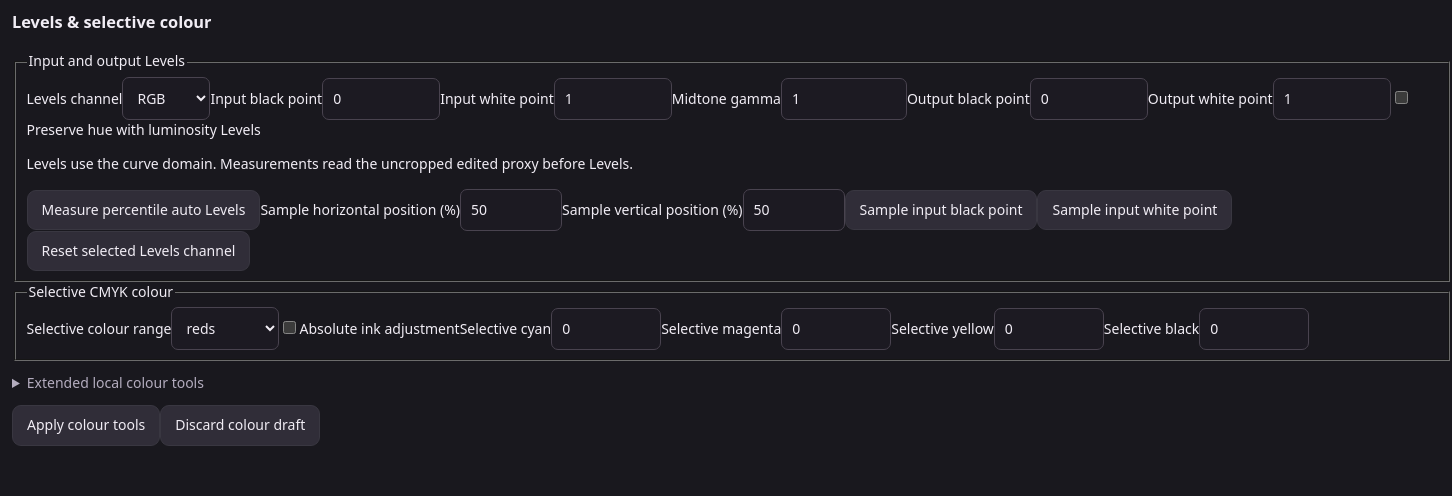
Test: proposes measured points without losing unrelated selective drafts or writing a recipe
Replace the text in the number field labelled "Selective yellow" with "25" at (1049, 329), box [994,308,1104,350]
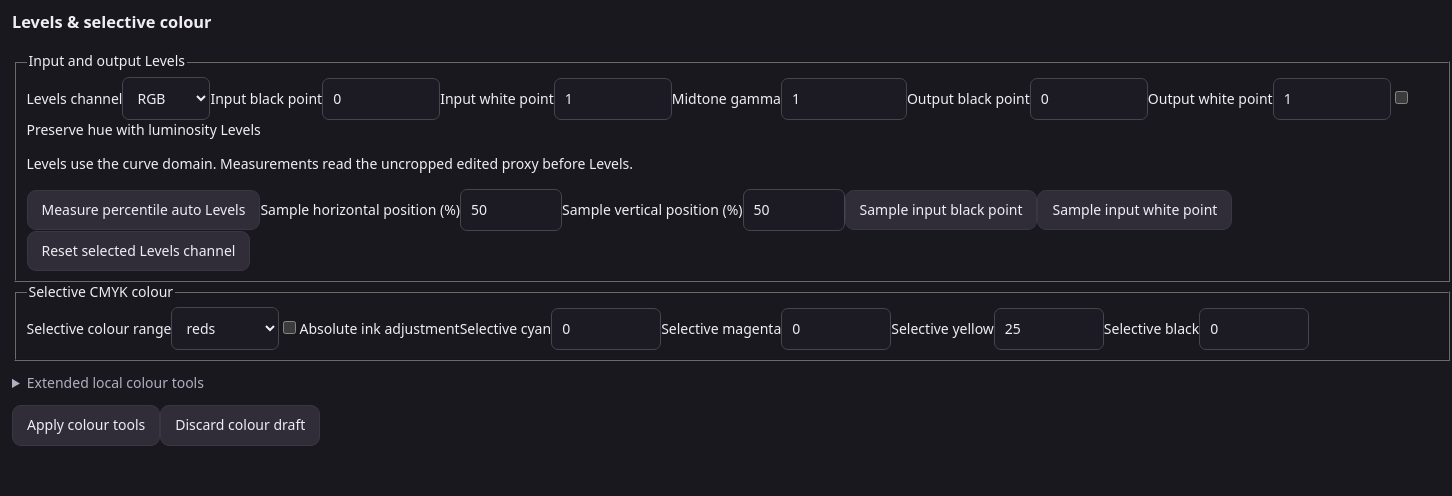
Click the button "Sample input black point" at (941, 210), box [845,190,1038,230]
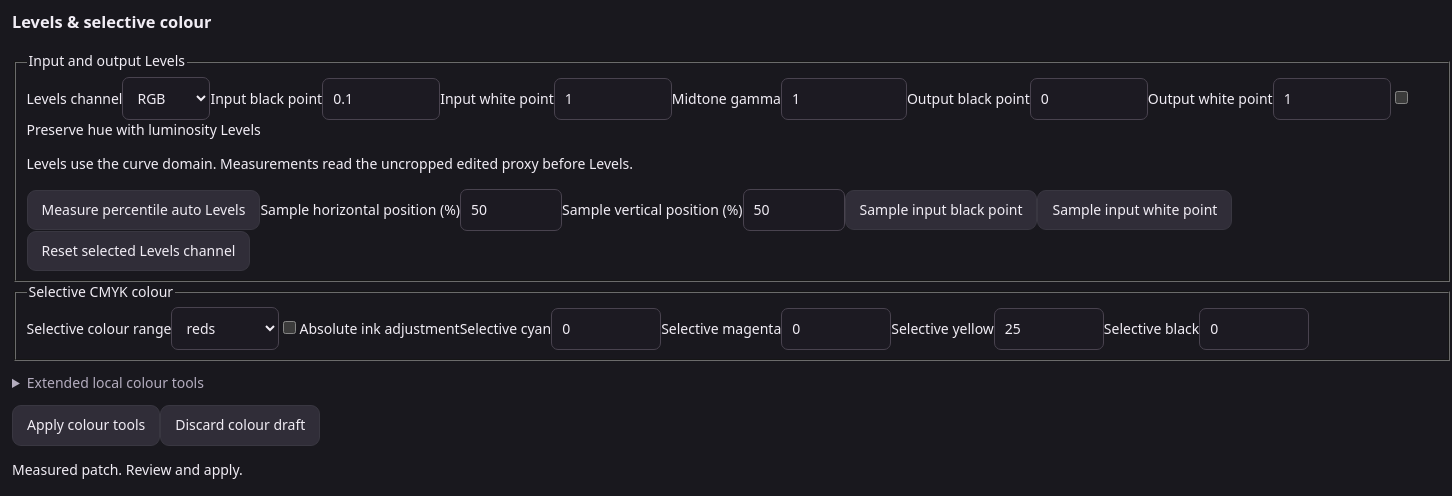
Expected: the number field labelled "Input black point" holds "0.1", [322,78,440,120]
Now the text "Measured patch. Review and apply." is shown, box [12,460,243,479]
